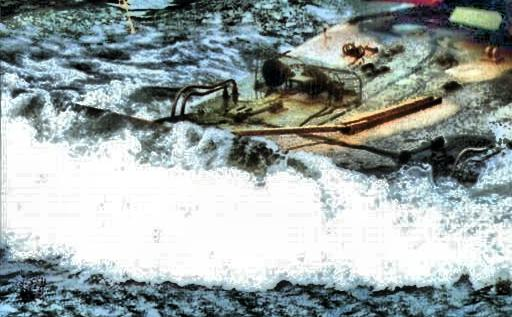tanks: (177, 1, 512, 180)
